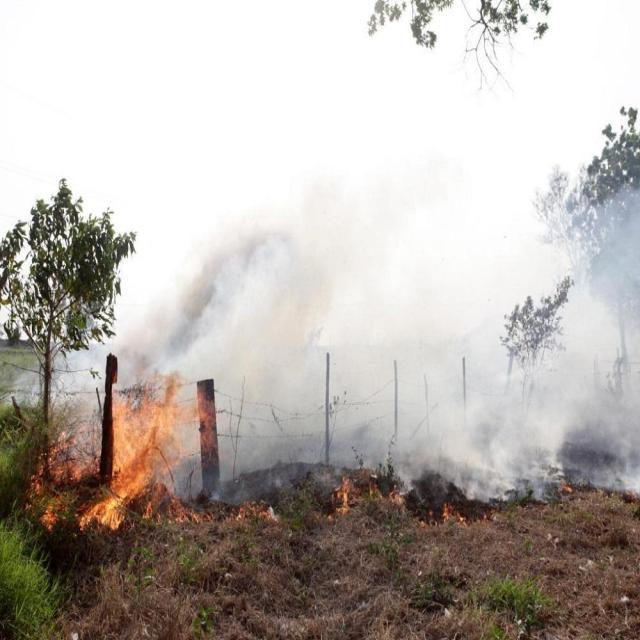Fire: (32, 371, 216, 524), (336, 475, 354, 515)
